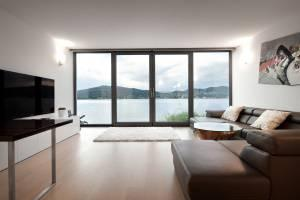window: (72, 49, 232, 125)
